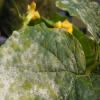Squash Powdery mildew leaf: (0, 23, 91, 100)
